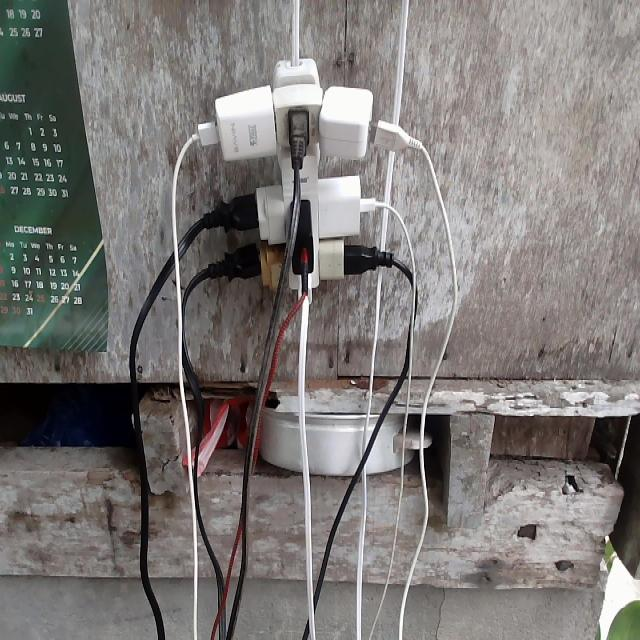-: (181, 56, 424, 304)
